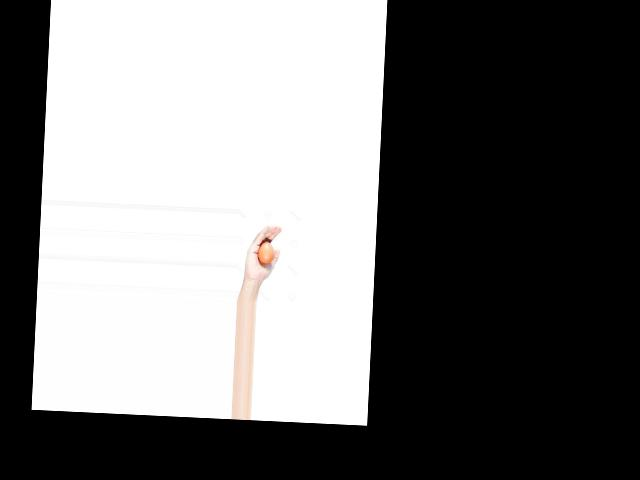egg: (257, 242, 274, 264)
